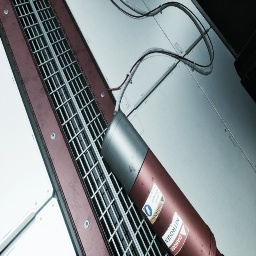NitrogenTank ,: (101, 110, 224, 256)
